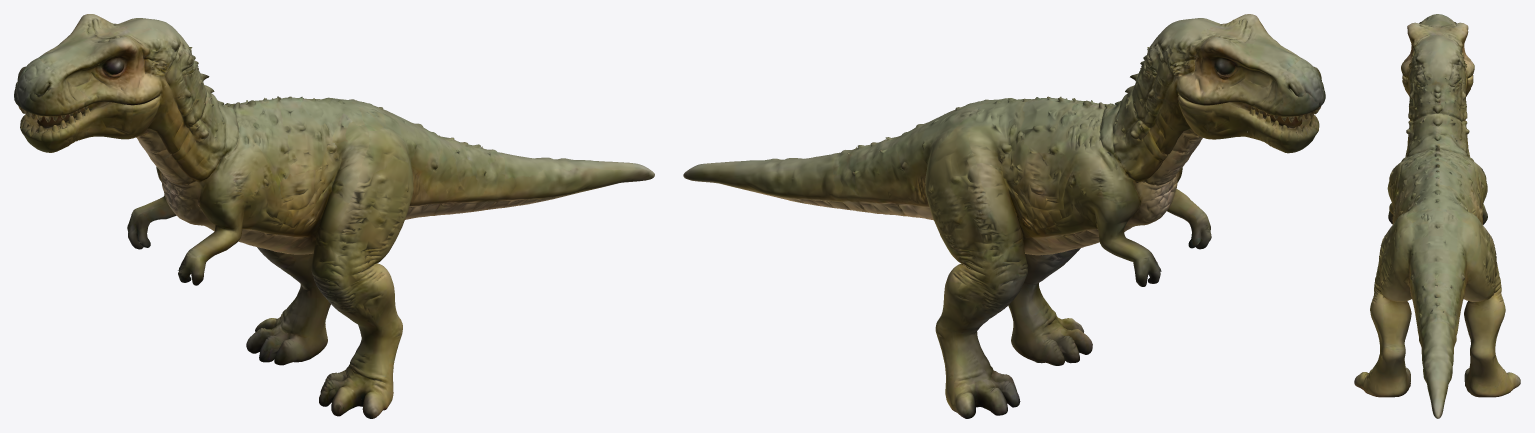
The model's file is t-rex.glb.
The picture shows the model from 3 angles, left to right: view 1: azimuth 30°, elevation 25°; view 2: azimuth 150°, elevation 25°; view 3: azimuth 270°, elevation 25°; orthographic projection. The views are drawn at different scales.
Parts seen in each view (by area): view 1: tripo_node_92afa84a-f411-4dd3-8dad-56ccd2db984b; view 2: tripo_node_92afa84a-f411-4dd3-8dad-56ccd2db984b; view 3: tripo_node_92afa84a-f411-4dd3-8dad-56ccd2db984b.
Part boxes in pixels (box(x1,y1,x2,y2)): tripo_node_92afa84a-f411-4dd3-8dad-56ccd2db984b: box(14, 14, 654, 418); tripo_node_92afa84a-f411-4dd3-8dad-56ccd2db984b: box(683, 14, 1325, 418); tripo_node_92afa84a-f411-4dd3-8dad-56ccd2db984b: box(1354, 14, 1520, 418).
Size of the model in its own units: 0.9778 by 0.5947 by 0.309.
Materials: 1 (1 with a texture image).
